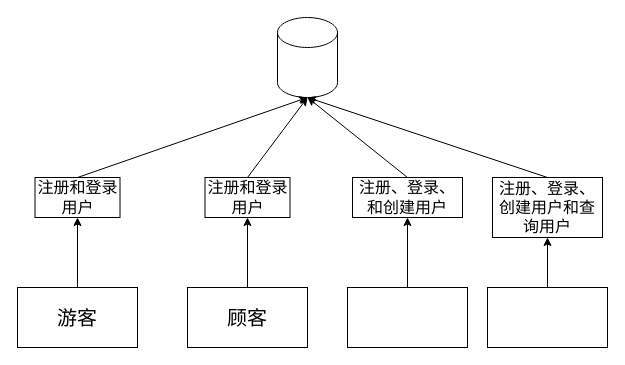
This 625x365 diagram has some shape labels left out. The shapes that lost their labels are listed below. From the top down, each one's centre as x and y in pixels, then its label:
At (307,57): "账户信息".
At (407,317): "销售人员".
At (547,317): "店长".
